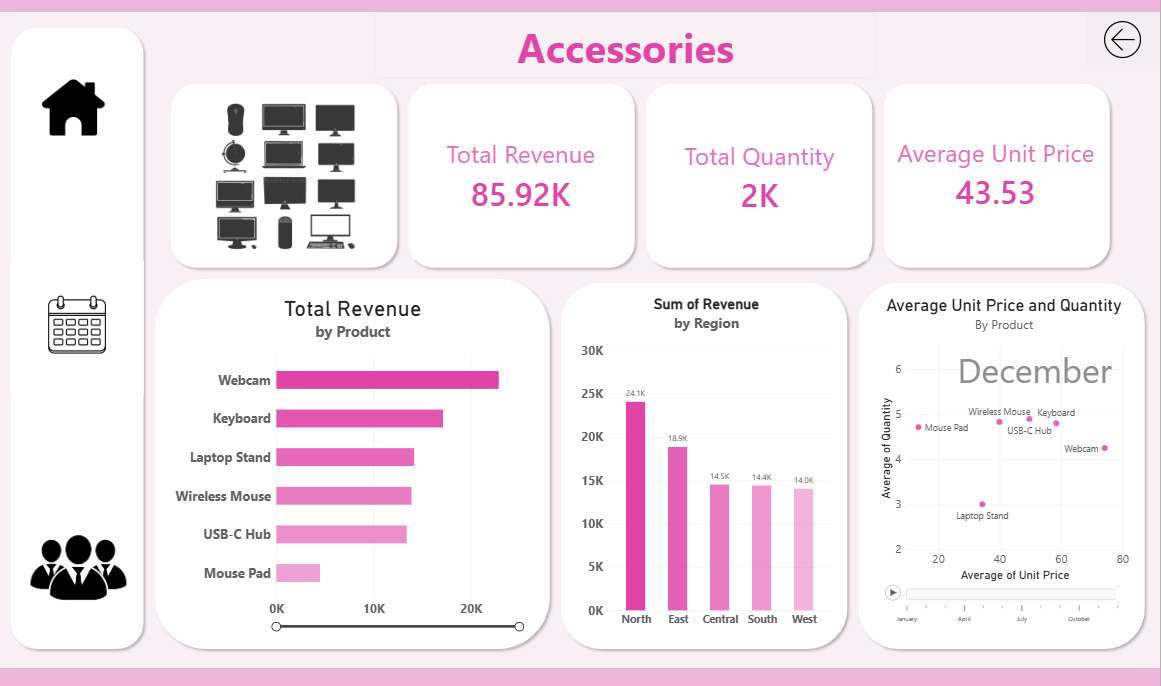

This screenshot's page, from the dashboard's own definition file:
{"tool":"powerbi","page":{"name":"Accessories ","canvas":[1920,1080],"ordinal":1},"visuals":[{"type":"shape","box":[18.5,16.5,236.7,1041.5],"z":0},{"type":"shape","box":[282,109.1,391.1,321.1],"z":1000},{"type":"shape","box":[673.1,109.1,391.1,321.1],"z":2000},{"type":"shape","box":[1064.2,109.1,391.1,321.1],"z":3000},{"type":"shape","box":[1455.2,109.1,391.1,321.1],"z":4000},{"type":"shape","box":[255.2,430.2,669,627.8],"z":5000},{"type":"shape","box":[1414.1,436.4,489.9,621.6],"z":6000},{"type":"cardVisual","fields":{"Data":["Min(Table1.Product Category)"]},"box":[625.7,0,827.4,109.1],"z":7000},{"type":"shape","box":[924.2,436.4,489.9,621.6],"z":8000},{"type":"cardVisual","fields":{"Data":["Sum(Table1.Revenue)"]},"box":[687.5,131.7,360.2,277.9],"z":9000},{"type":"image","box":[302.6,131.7,354,277.9],"z":10000},{"type":"cardVisual","fields":{"Data":["Sum(Table1.Quantity)"]},"box":[1080.6,133.8,360.2,277.9],"z":11000},{"type":"cardVisual","fields":{"Data":["Avg(Table1.Unit Price)"]},"box":[1469.6,129.7,360.2,277.9],"z":12000},{"type":"barChart","title":"Total Revenue","fields":{"Category":["Table1.Product"],"Y":["Sum(Table1.Revenue)"]},"box":[282,452.8,617.5,580.4],"z":13000},{"type":"columnChart","fields":{"Category":["Table1.Region"],"Y":["Sum(Table1.Revenue)"]},"box":[950.9,452.8,444.6,580.4],"z":14000},{"type":"scatterChart","title":"Average  Unit Price and Quantity","fields":{"Category":["Table1.Product"],"Play":["Table1.Date.Variation.Date Hierarchy.Month"],"X":["Avg(Table1.Unit Price)"],"Y":["Avg(Table1.Quantity)"]},"box":[1440.8,452.8,444.6,580.4],"z":15000},{"type":"actionButton","box":[1796.9,0,123.5,90.6],"z":16000},{"type":"image","box":[37,45.3,187.3,224.4],"z":17000},{"type":"image","box":[37,817.2,203.8,195.5],"z":18000},{"type":"image","box":[26.8,393.1,220.2,255.2],"z":19000}]}

Visuals, with their boxes on the page's 1920x1080 design canvas (x1, y1, x2, y2). These are canvas units, not pixel positions in the 1161x686 screenshot, which may show the page scaled, cropped or inside an application window:
shape: left=18, top=16, right=255, bottom=1058
shape: left=282, top=109, right=673, bottom=430
shape: left=673, top=109, right=1064, bottom=430
shape: left=1064, top=109, right=1455, bottom=430
shape: left=1455, top=109, right=1846, bottom=430
shape: left=255, top=430, right=924, bottom=1058
shape: left=1414, top=436, right=1904, bottom=1058
cardVisual - Min(Table1.Product Category): left=626, top=0, right=1453, bottom=109
shape: left=924, top=436, right=1414, bottom=1058
cardVisual - Sum(Table1.Revenue): left=688, top=132, right=1048, bottom=410
image: left=303, top=132, right=657, bottom=410
cardVisual - Sum(Table1.Quantity): left=1081, top=134, right=1441, bottom=412
cardVisual - Avg(Table1.Unit Price): left=1470, top=130, right=1830, bottom=408
"Total Revenue" barChart: left=282, top=453, right=900, bottom=1033
columnChart - Table1.Region x Sum(Table1.Revenue): left=951, top=453, right=1396, bottom=1033
"Average  Unit Price and Quantity" scatterChart: left=1441, top=453, right=1885, bottom=1033
actionButton: left=1797, top=0, right=1920, bottom=91
image: left=37, top=45, right=224, bottom=270
image: left=37, top=817, right=241, bottom=1013
image: left=27, top=393, right=247, bottom=648
